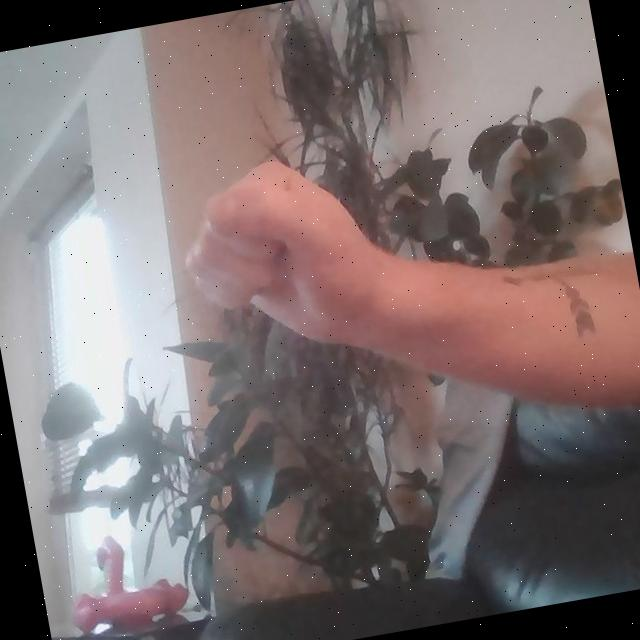rock: (164, 139, 414, 391)
